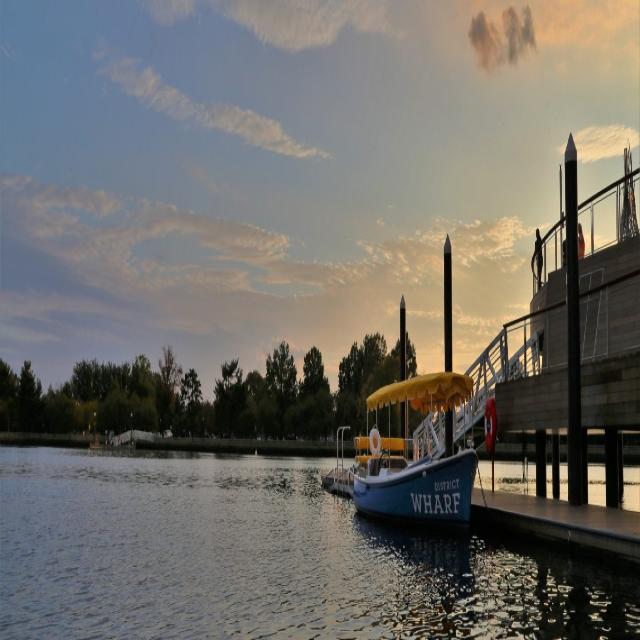houseboat: (356, 360, 479, 532)
